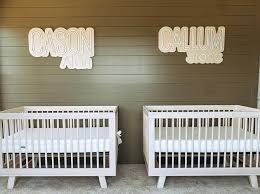crib: (142, 105, 259, 188), (0, 106, 118, 188)
